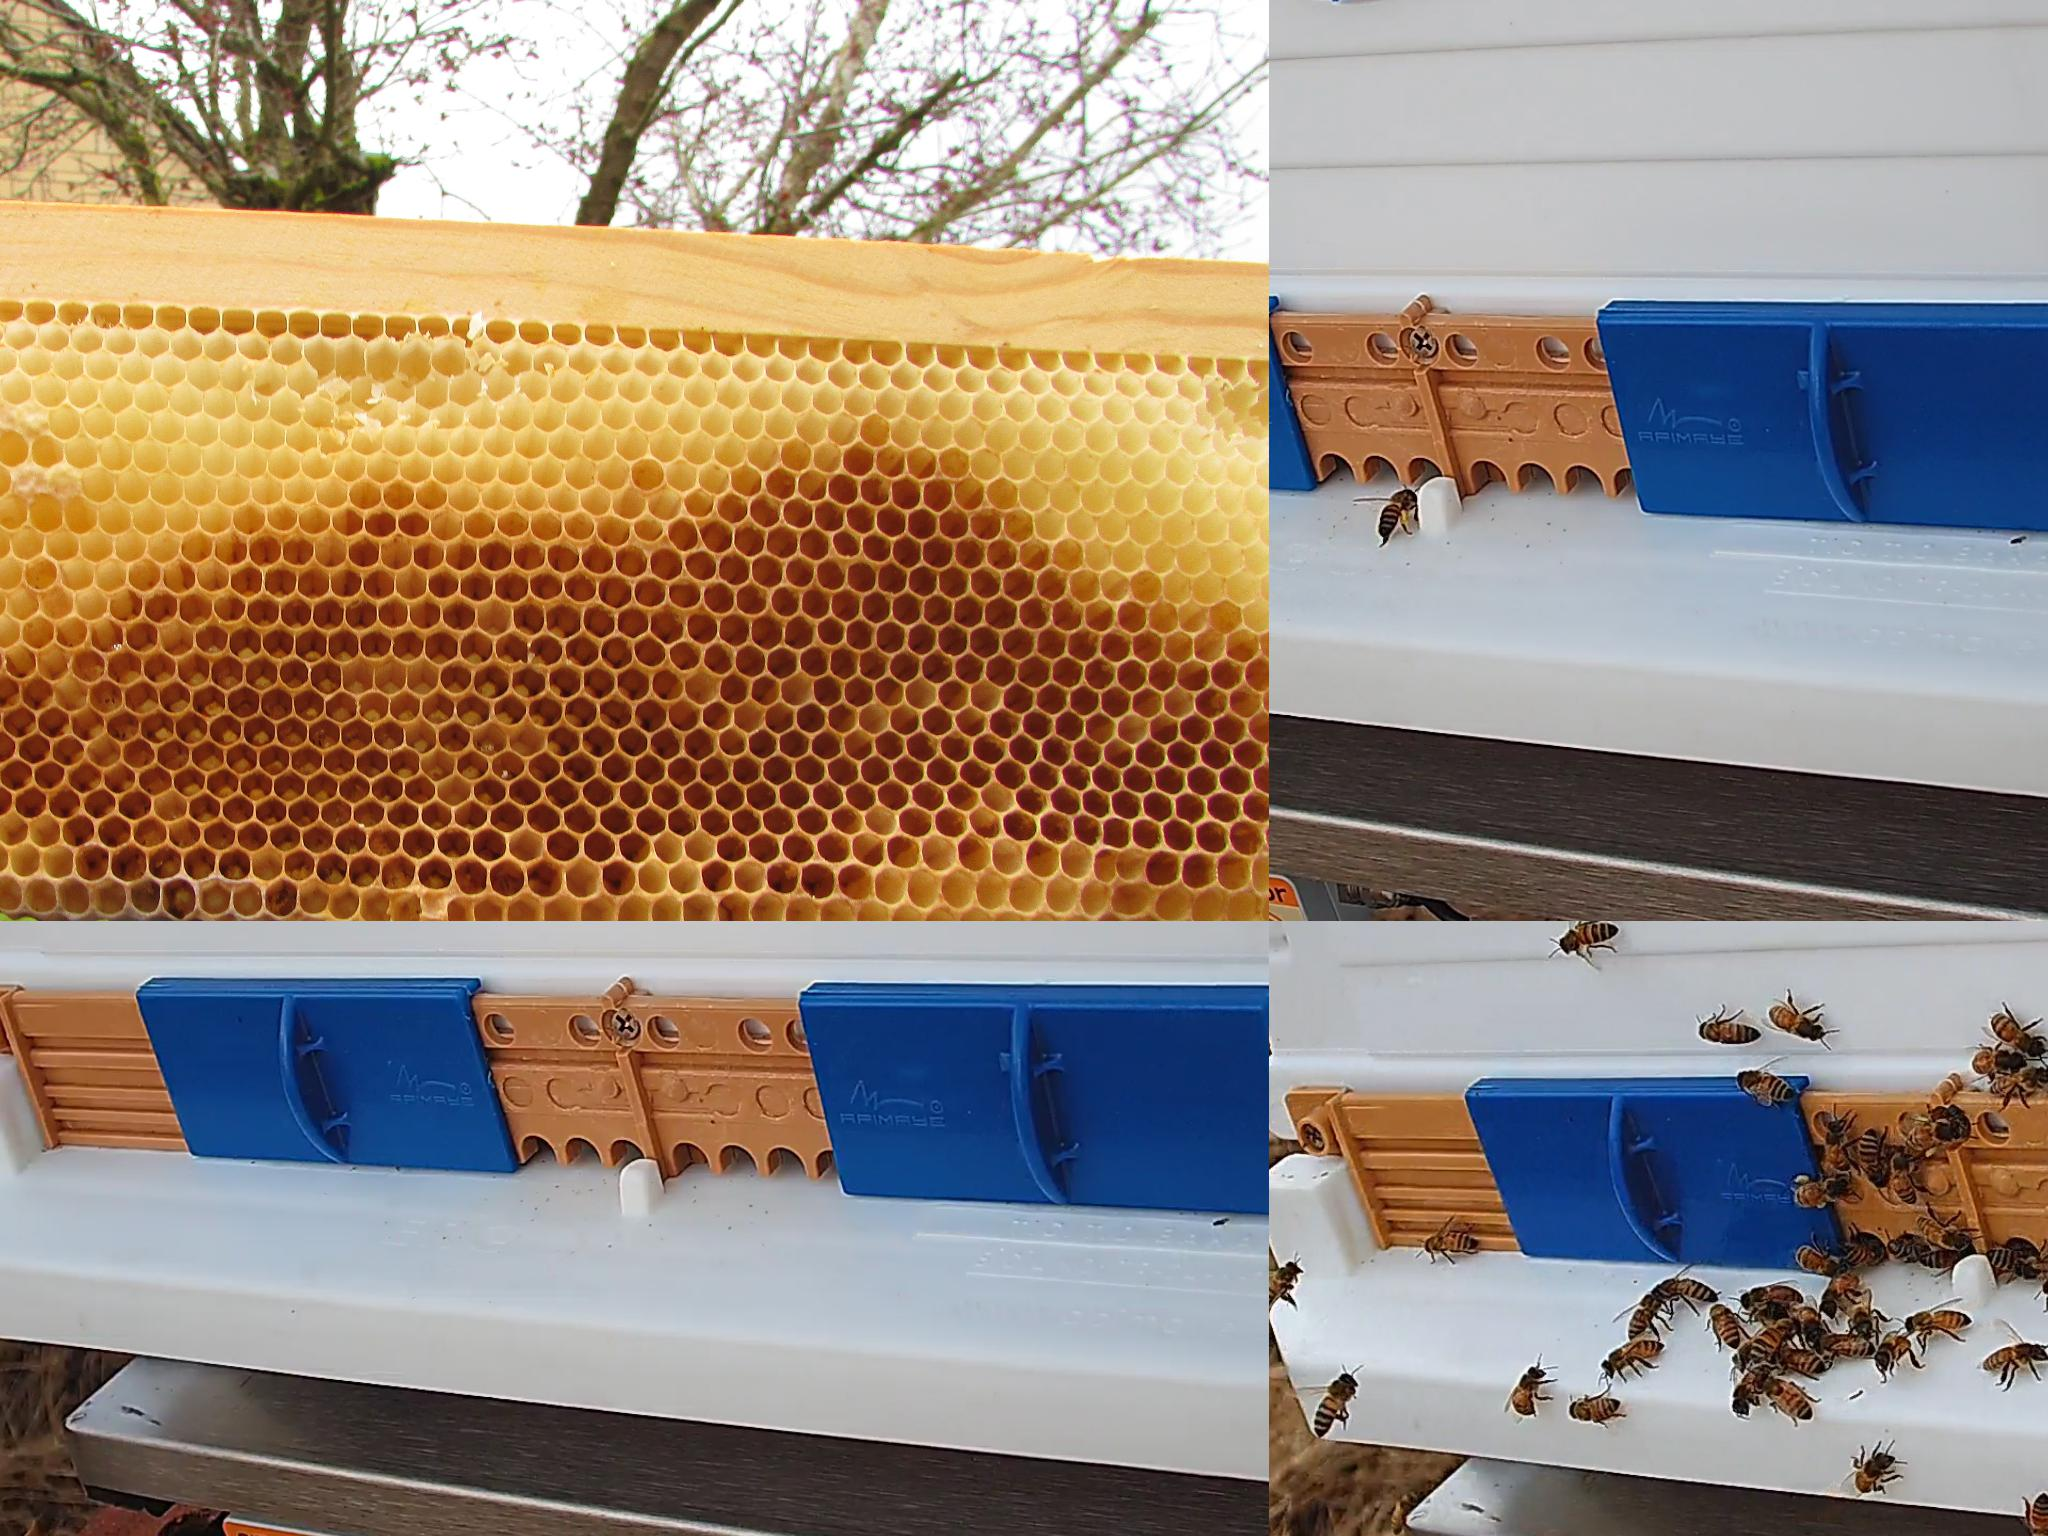bee: (1313, 1373, 1356, 1434), (1759, 1373, 1811, 1418), (1600, 1341, 1663, 1375), (1556, 921, 1619, 954), (1993, 1016, 2045, 1054), (1769, 1007, 1822, 1041), (1732, 1363, 1767, 1413), (1737, 1068, 1792, 1100), (1916, 1215, 1971, 1247), (1627, 1291, 1664, 1338), (1982, 1346, 2046, 1371), (1819, 1275, 1856, 1318), (1751, 1318, 1788, 1362), (1269, 1260, 1300, 1310), (1814, 1333, 1875, 1357), (1990, 1066, 2046, 1092), (1908, 1309, 1972, 1331), (1858, 1454, 1895, 1492), (1513, 1368, 1542, 1417), (1651, 1279, 1717, 1300), (1709, 1304, 1740, 1349), (1700, 1021, 1758, 1044), (1825, 1118, 1851, 1168), (1890, 1152, 1914, 1202), (1796, 1247, 1843, 1273), (1877, 1333, 1909, 1370), (1861, 1129, 1884, 1181), (1780, 1347, 1825, 1373), (1838, 1239, 1884, 1263), (1985, 1246, 2033, 1268), (1972, 1050, 2024, 1071), (1848, 1291, 1874, 1333), (1426, 1233, 1476, 1254), (1569, 1397, 1619, 1418), (1890, 1234, 1927, 1262), (1793, 1307, 1827, 1336), (1735, 1331, 1764, 1365), (1742, 1286, 1801, 1302), (1921, 1250, 1969, 1270), (2016, 1255, 2046, 1281), (2029, 1492, 2046, 1534)
pollenbee: (1908, 1115, 1964, 1154), (1377, 487, 1416, 542), (1795, 1171, 1845, 1208)
